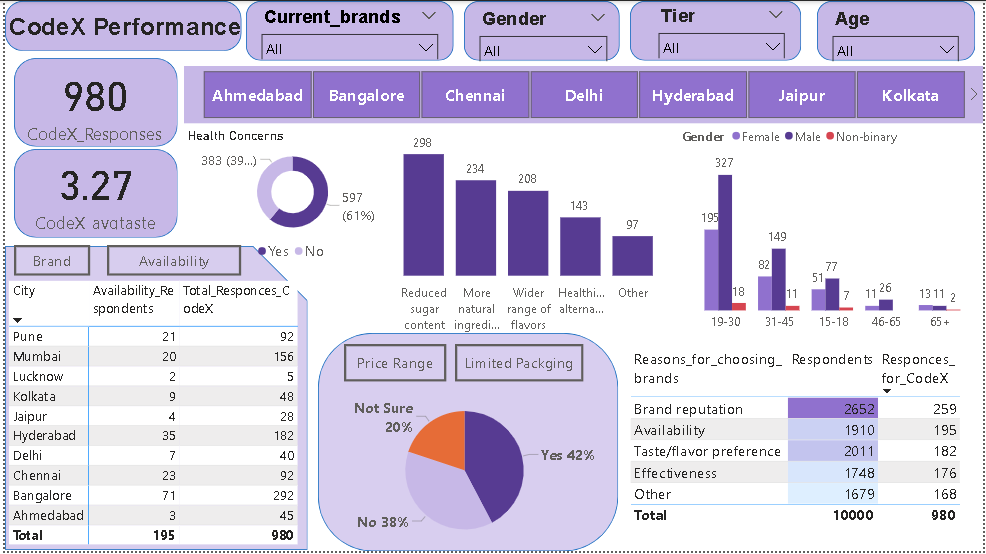

This screenshot's page, from the dashboard's own definition file:
{"tool":"powerbi","page":{"name":"CodeX Performance","canvas":[1280,720],"ordinal":5},"visuals":[{"type":"shape","box":[0,320.9,396.2,398],"z":0},{"type":"shape","box":[409.3,434.2,392.9,285.8],"z":1000},{"type":"shape","box":[11.9,193.5,214.3,116.1],"z":2000},{"type":"shape","box":[1062.7,0,207.1,78.1],"z":3000},{"type":"shape","box":[818.2,0,224.1,78.1],"z":4000},{"type":"shape","box":[601,0,203.7,78.1],"z":5000},{"type":"shape","box":[315.8,0,271.6,78.1],"z":6000},{"type":"shape","box":[11.9,74.4,214.3,116.1],"z":7000},{"type":"shape","box":[0,0,309.6,65.5],"z":8000},{"type":"textbox","box":[0,8.9,315.5,47.6],"z":9000},{"type":"card","fields":{"Values":["Measuretable.Responces_for_CodeX"]},"box":[22.3,74.4,190.5,116.1],"z":10000},{"type":"card","fields":{"Values":["Measuretable.CodeX_avg_taste_exp"]},"box":[23.8,195,190.5,108.7],"z":11000},{"type":"pieChart","fields":{"Category":["fact_survey_responses.Limited_edition_packaging"],"Y":["Measuretable.Responces_for_CodeX"]},"box":[410.8,507.5,381,212.8],"z":12000},{"type":"pivotTable","fields":{"Values":["Measuretable.Availability_Respondents_CodeX","Measuretable.Responces_for_CodeX"],"Rows":["dim_cities.City"]},"box":[0,361.7,395.9,358.7],"z":13000},{"type":"clusteredColumnChart","fields":{"Category":["dim_repondents.Age"],"Series":["dim_repondents.Gender"],"Y":["Measuretable.Responces_for_CodeX"]},"box":[887.1,159.3,392.9,275.3],"z":14000},{"type":"tableEx","fields":{"Values":["fact_survey_responses.Reasons_for_choosing_brands","Measuretable.Total_People","Measuretable.Responces_for_CodeX"]},"box":[812.7,449.5,467.3,262],"z":15000},{"type":"slicer","fields":{"Values":["dim_cities.City"]},"box":[234.3,84.9,1045.7,74.7],"z":16000},{"type":"slicer","fields":{"Values":["dim_repondents.Gender"]},"box":[611.1,3.4,186.7,74.7],"z":17000},{"type":"slicer","fields":{"Values":["fact_survey_responses.Current_brands"]},"box":[325.9,1.7,251.2,74.7],"z":18000},{"type":"slicer","fields":{"Values":["dim_repondents.Age"]},"box":[1072.9,3.4,185,74.7],"z":19000},{"type":"slicer","fields":{"Values":["dim_cities.Tier"]},"box":[845.4,0,185,74.7],"z":20000},{"type":"donutChart","title":"Health Concerns","fields":{"Y":["Measuretable.Responces_for_CodeX"],"Category":["fact_survey_responses.Health_concerns"]},"box":[233.7,166.7,284.3,183.1],"z":21000},{"type":"columnChart","fields":{"Category":["fact_survey_responses.Improvements_desired"],"Y":["Measuretable.Responces_for_CodeX"]},"box":[483.7,166.7,392.9,275.3],"z":22000},{"type":"actionButton","box":[443.5,449.5,134,49.1],"z":25000},{"type":"actionButton","box":[589.4,449.5,168.2,49.1],"z":26000},{"type":"actionButton","box":[11.9,320,99.7,40.2],"z":27000},{"type":"actionButton","box":[134,320,175.6,40.2],"z":28000}]}

Visuals, with their boxes in screenshot pixels (x1, y1, x2, y2), scaled from the page's 1280x720 canvas onto the 986x554 screenshot:
shape: 0 247 305 553
shape: 315 334 618 553
shape: 9 149 174 238
shape: 819 0 978 60
shape: 630 0 803 60
shape: 463 0 620 60
shape: 243 0 452 60
shape: 9 57 174 147
shape: 0 0 238 50
textbox: 0 7 243 43
card - Measuretable.Responces_for_CodeX: 17 57 164 147
card - Measuretable.CodeX_avg_taste_exp: 18 150 165 234
pieChart - fact_survey_responses.Limited_edition_packaging x Measuretable.Responces_for_CodeX: 316 390 610 553
pivotTable - Measuretable.Availability_Respondents_CodeX x Measuretable.Responces_for_CodeX: 0 278 305 553
clusteredColumnChart - dim_repondents.Age x dim_repondents.Gender: 683 123 985 334
tableEx - fact_survey_responses.Reasons_for_choosing_brands x Measuretable.Total_People: 626 346 985 547
slicer - dim_cities.City: 180 65 985 123
slicer - dim_repondents.Gender: 471 3 615 60
slicer - fact_survey_responses.Current_brands: 251 1 445 59
slicer - dim_repondents.Age: 826 3 969 60
slicer - dim_cities.Tier: 651 0 794 57
"Health Concerns" donutChart: 180 128 399 269
columnChart - fact_survey_responses.Improvements_desired x Measuretable.Responces_for_CodeX: 373 128 675 340
actionButton: 342 346 445 384
actionButton: 454 346 584 384
actionButton: 9 246 86 277
actionButton: 103 246 238 277
